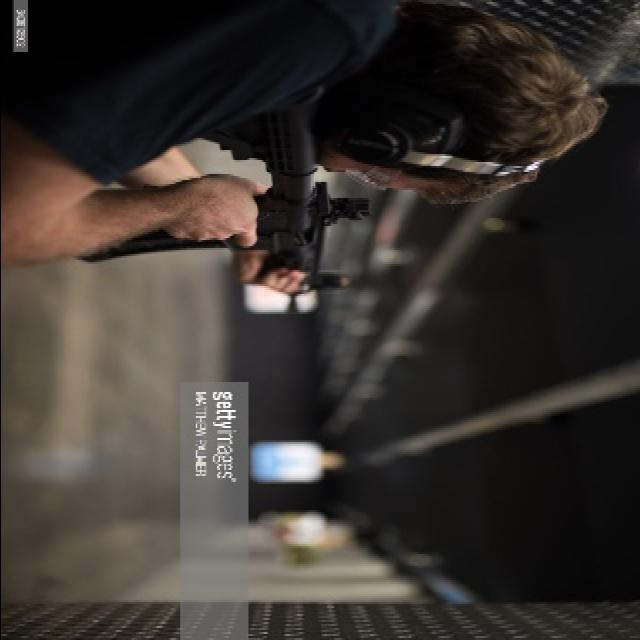rifle: (85, 103, 358, 313)
